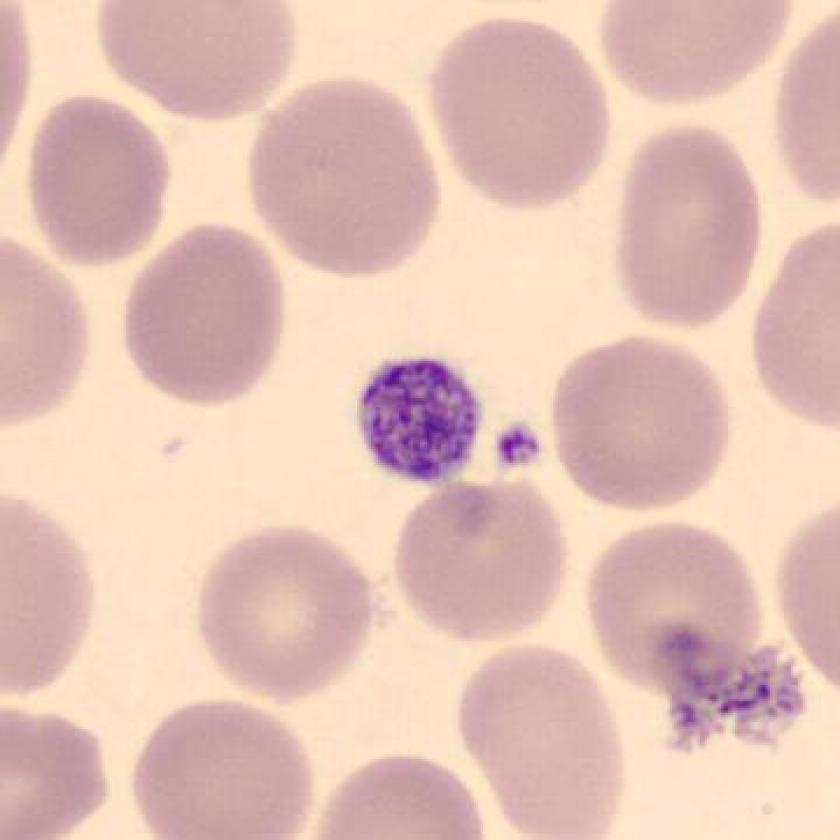platelets: (349, 351, 486, 490), (491, 411, 552, 478)
